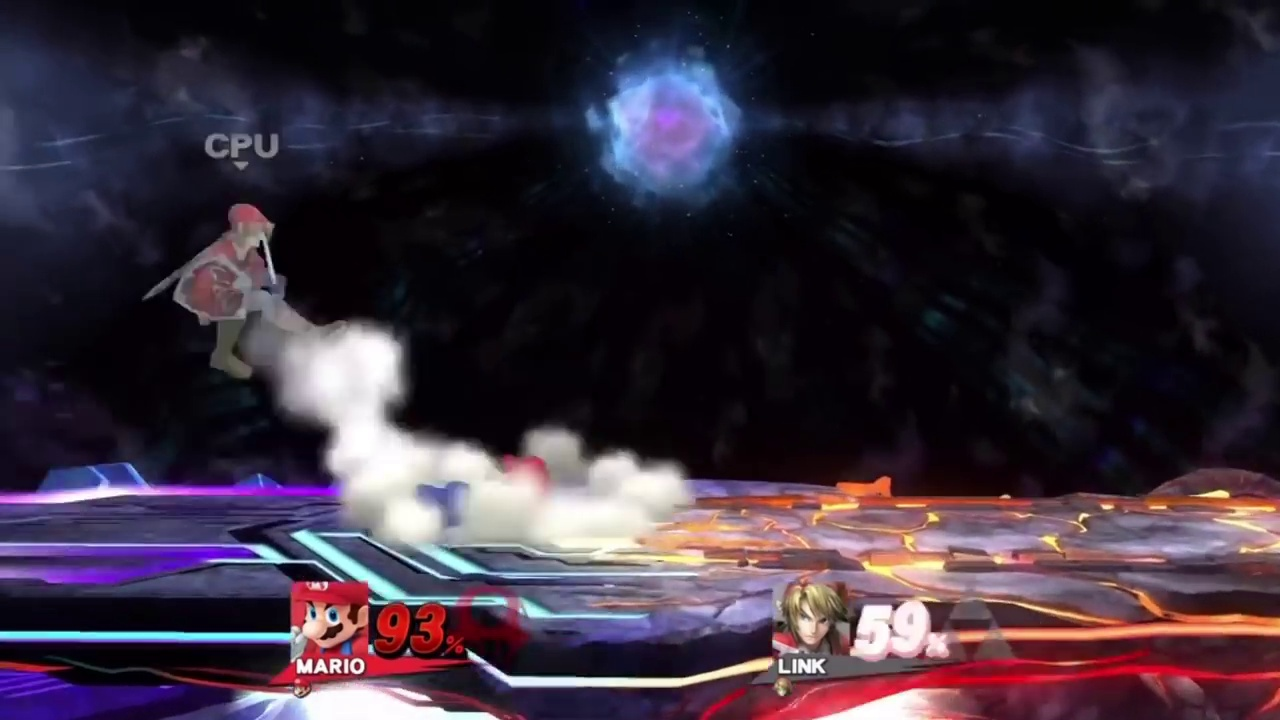Mario: (415, 455, 549, 527)
